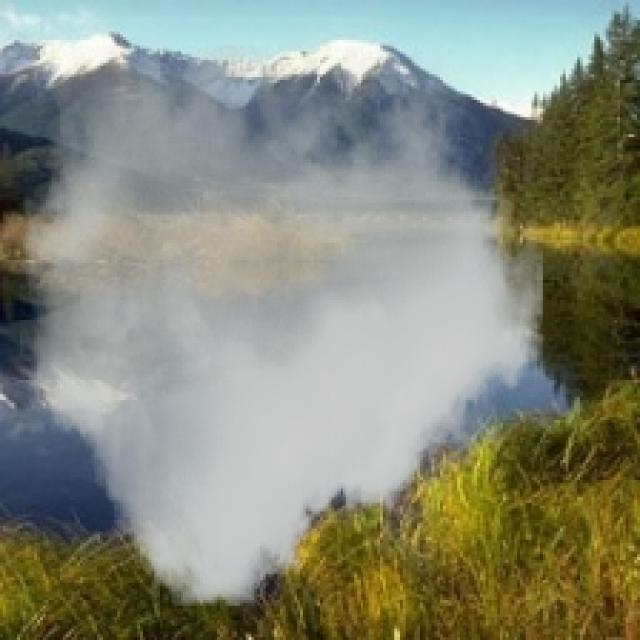smoke: (20, 45, 543, 606)
